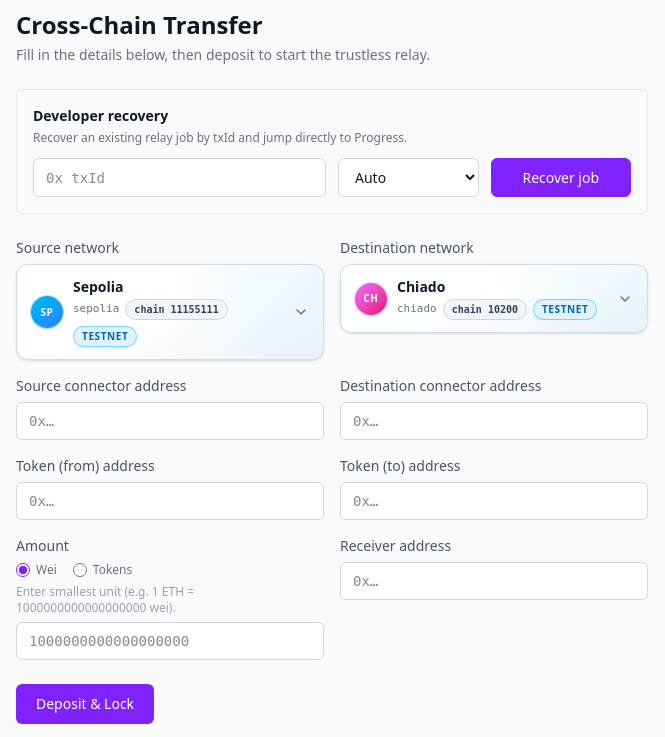
Scenario: TransferForm › shows error alert when submitting with empty address fields
Click the button "Deposit & Lock". click: (85, 704)
box: [16, 684, 154, 724]
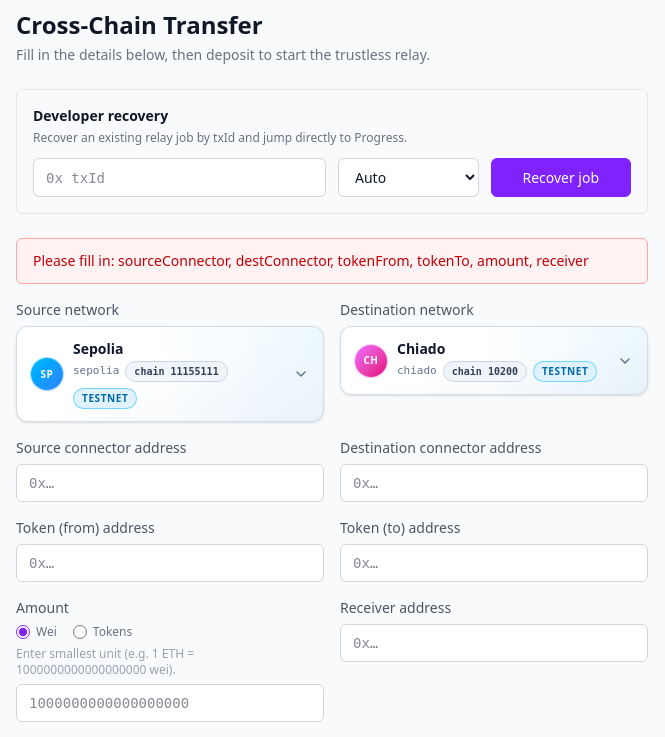
Now the message is shown, box [16, 238, 648, 284]
